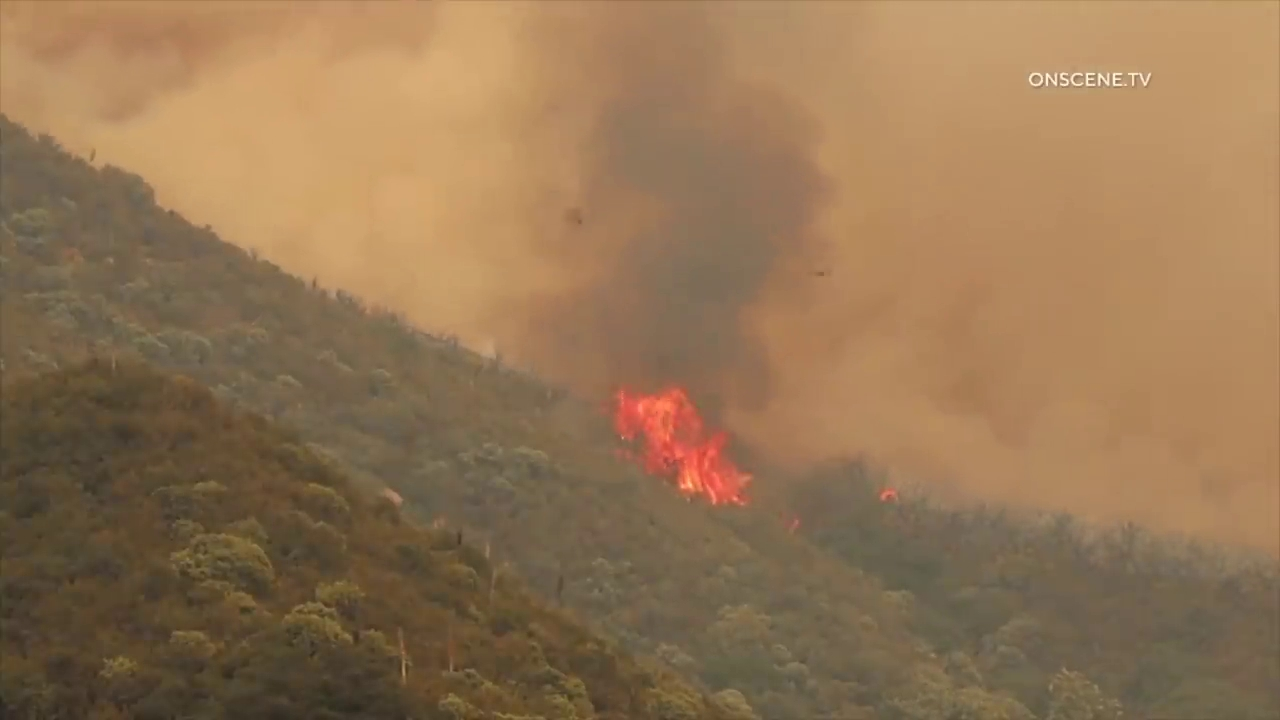forest_fire: (613, 386, 751, 504)
